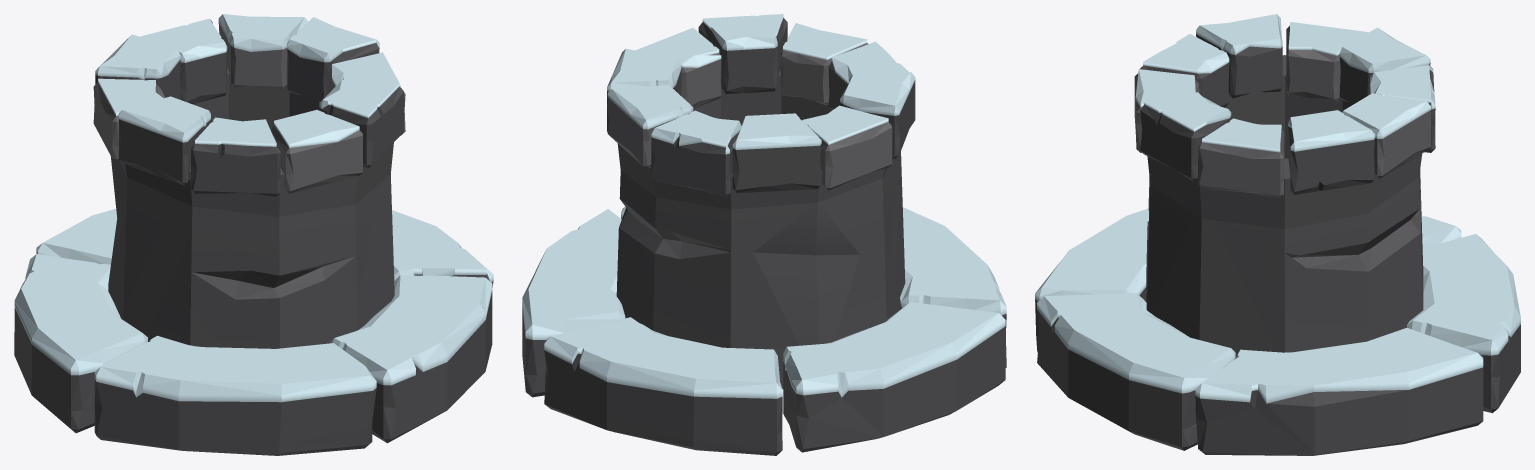
File: SM_Prop_Statue_Base_01_Snow.glb
3 renders of one model, left to right at view 1: azimuth 30°, elevation 25°; view 2: azimuth 150°, elevation 25°; view 3: azimuth 270°, elevation 25°, orthographic.
Visible parts, largest first — view 1: SM_Prp_Statue_Base_01_Snow; view 2: SM_Prp_Statue_Base_01_Snow; view 3: SM_Prp_Statue_Base_01_Snow.
Part boxes in pixels (x1,y1,x2,y2): SM_Prp_Statue_Base_01_Snow: (14, 14, 493, 455); SM_Prp_Statue_Base_01_Snow: (522, 14, 1006, 455); SM_Prp_Statue_Base_01_Snow: (1035, 14, 1520, 455).
Size of the model in its own units: 1.84 by 1.19 by 1.85.
1 material, 1 textured.
